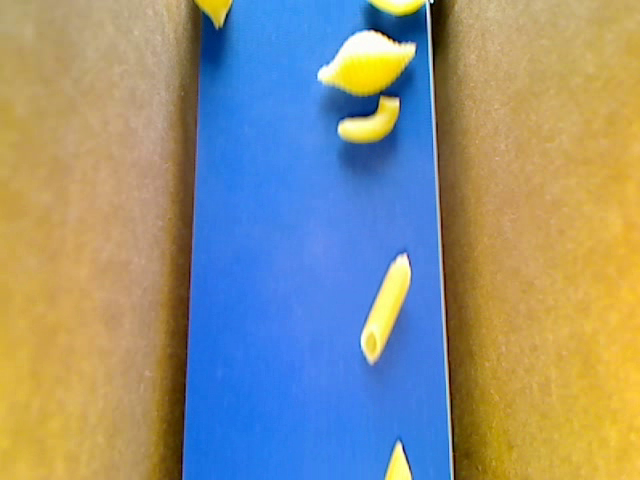elbow: (338, 93, 401, 143)
penne: (359, 251, 412, 367)
shell: (316, 28, 417, 96)
